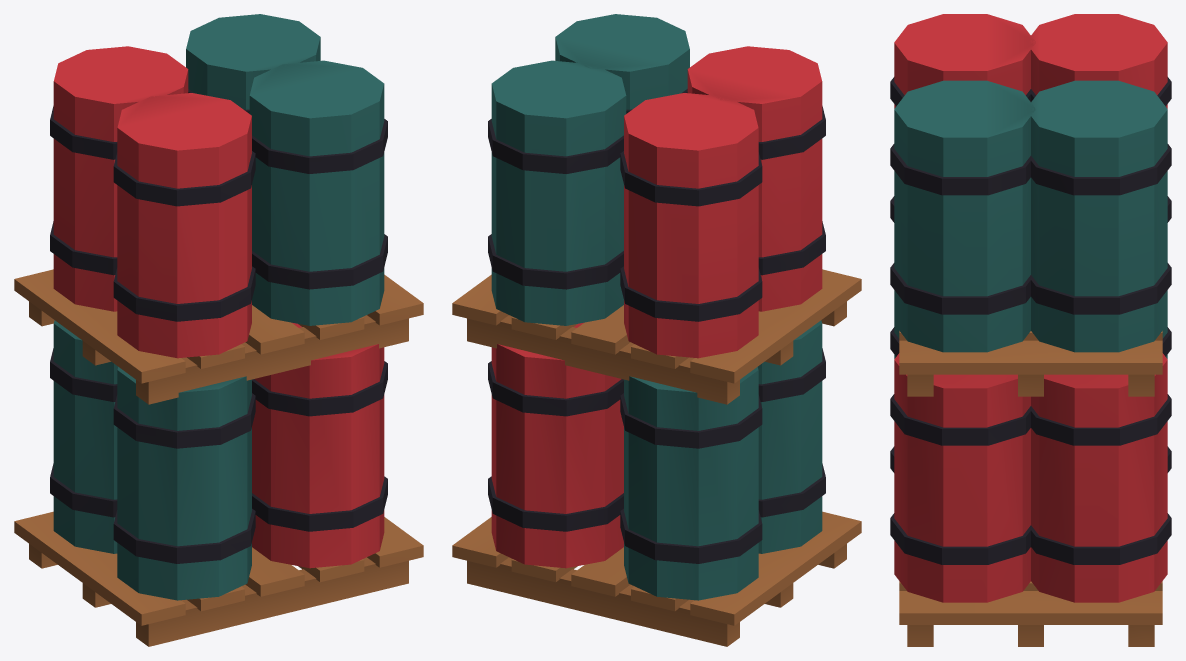
Rendered from prop.cure-drum-stack.glb.
3 renders of one model, left to right at view 1: azimuth 30°, elevation 25°; view 2: azimuth 150°, elevation 25°; view 3: azimuth 270°, elevation 25°, orthographic. The views are drawn at different scales.
Parts seen in each view (by area): view 1: body; view 2: body; view 3: body.
Part boxes in pixels (x1,y1,x2,y2): body: [14, 14, 423, 646]; body: [452, 14, 861, 646]; body: [890, 14, 1171, 646].
Size of the model in its own units: 1.28 by 2.12 by 1.07.
